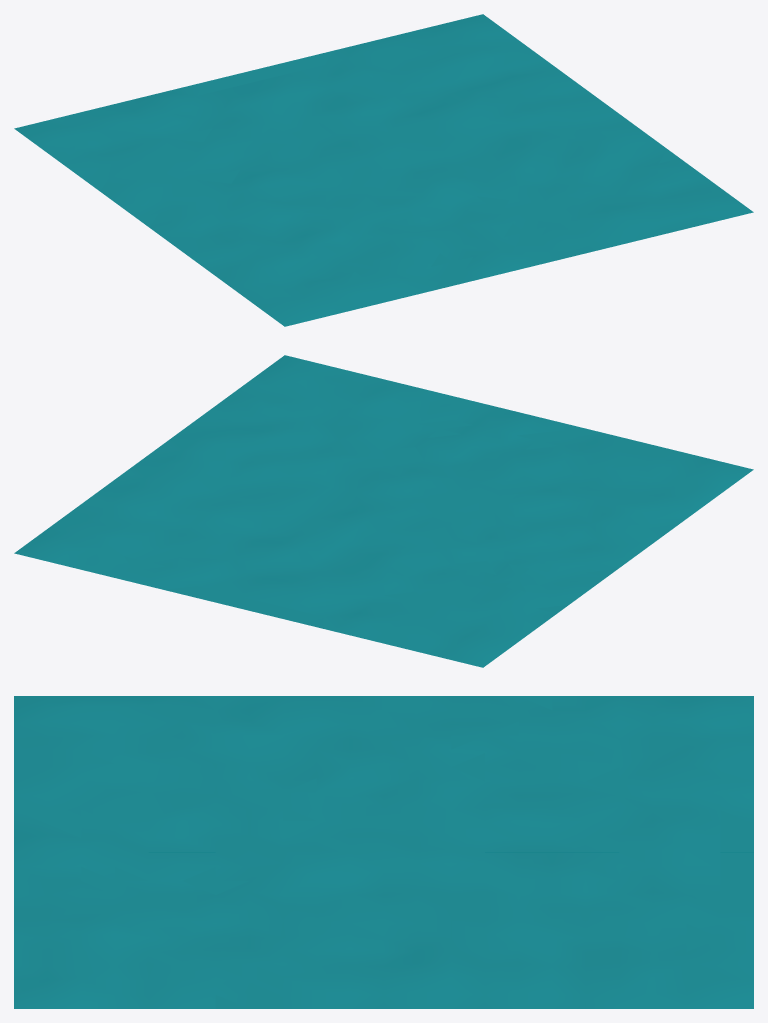
Rendered from ocean.glb.
3 renders of one model, top to bottom at view 1: azimuth 30°, elevation 25°; view 2: azimuth 150°, elevation 25°; view 3: azimuth 270°, elevation 25°, orthographic. The views are drawn at different scales.
Visible parts, largest first — view 1: Plano subdividido; view 2: Plano subdividido; view 3: Plano subdividido.
Boxes of the visible parts, x1,y1,x2,y2 form: Plano subdividido: [14, 14, 753, 326]; Plano subdividido: [14, 355, 753, 667]; Plano subdividido: [14, 696, 753, 1008].
Size of the model in its own units: 128 by 0.6 by 128.
